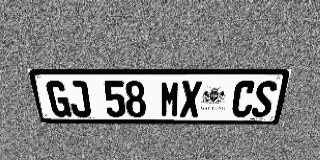5: (103, 81, 126, 117)
8: (124, 81, 146, 117)
C: (231, 81, 257, 117)
G: (45, 81, 72, 117)
J: (66, 81, 92, 117)
M: (160, 81, 181, 117)
S: (250, 81, 278, 117)
X: (180, 81, 202, 117)
